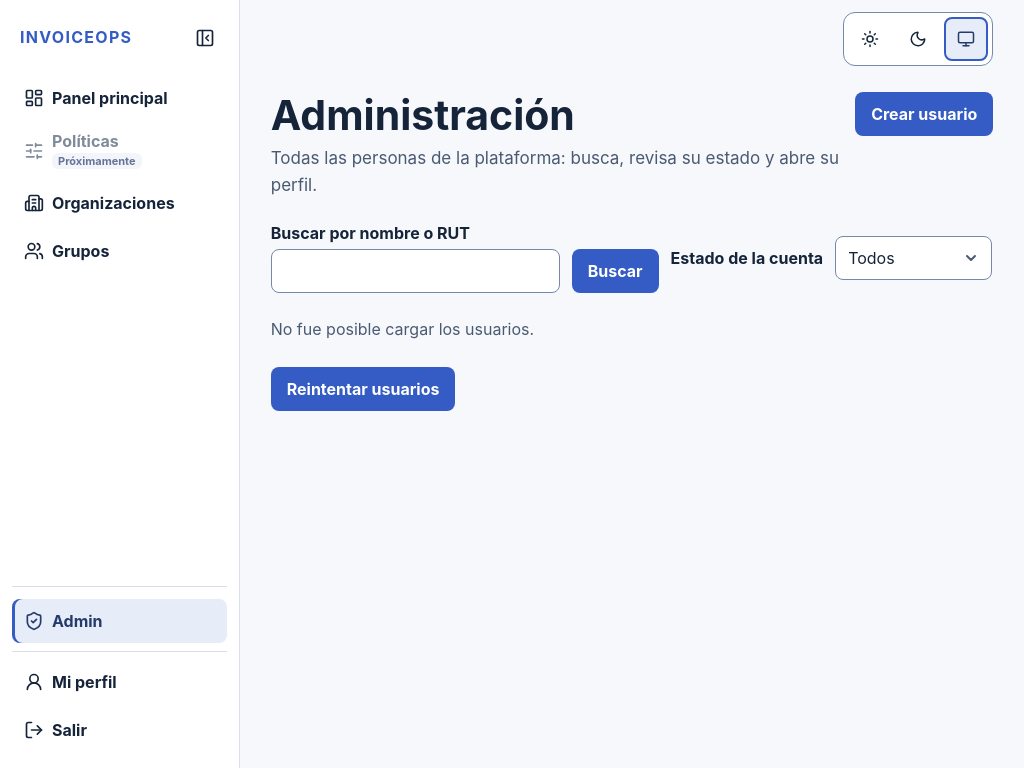
it: admin users directory (AC-13) › says when nothing matches, and offers a retry when the read fails
The image size is (1024, 768).
Expected: the message reads "No fue posible cargar los usuarios.", [271, 319, 534, 339]
Click the button "Reintentar usuarios".
click(363, 389)  # box [271, 367, 455, 411]
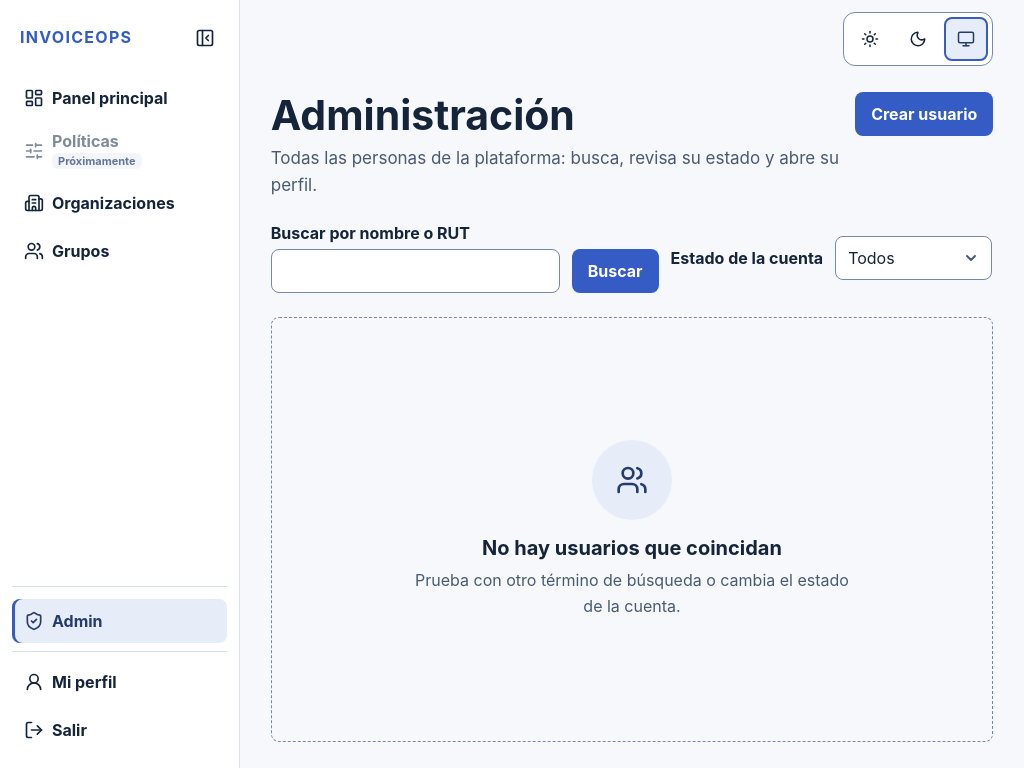
Expected: the heading "No hay usuarios que coincidan" is shown, [482, 536, 782, 560]
